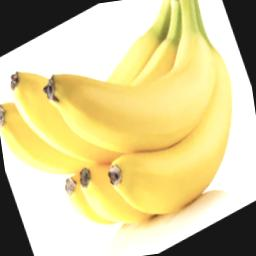Banana Ripe: (0, 1, 256, 244)
